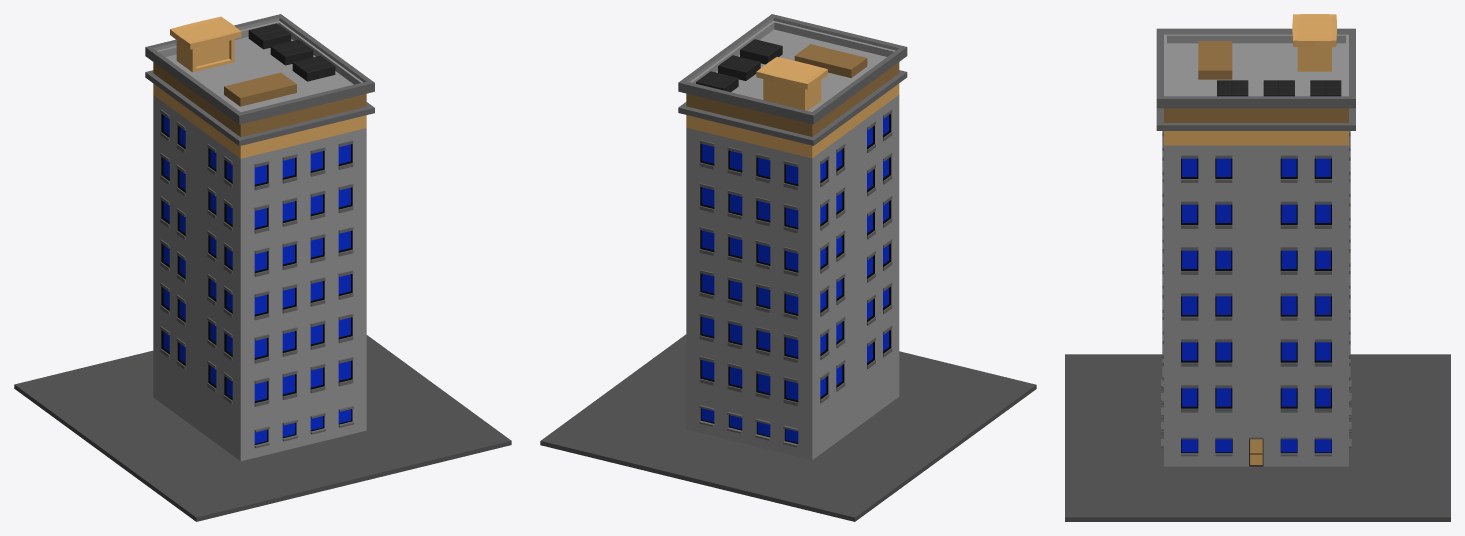
The model's file is Immeuble1_2.FBX.
3 views of the same model, side by side, from view 1: azimuth 30°, elevation 25°; view 2: azimuth 150°, elevation 25°; view 3: azimuth 270°, elevation 25° (orthographic). The views are drawn at different scales.
Visible parts, largest first — view 1: Immeuble1_2; view 2: Immeuble1_2; view 3: Immeuble1_2.
Boxes of the visible parts, x1,y1,x2,y2 form: Immeuble1_2: (14,14,511,521); Immeuble1_2: (540,14,1036,521); Immeuble1_2: (1065,14,1450,521).
Size of the model in its own units: 2500 by 2500 by 2839.
